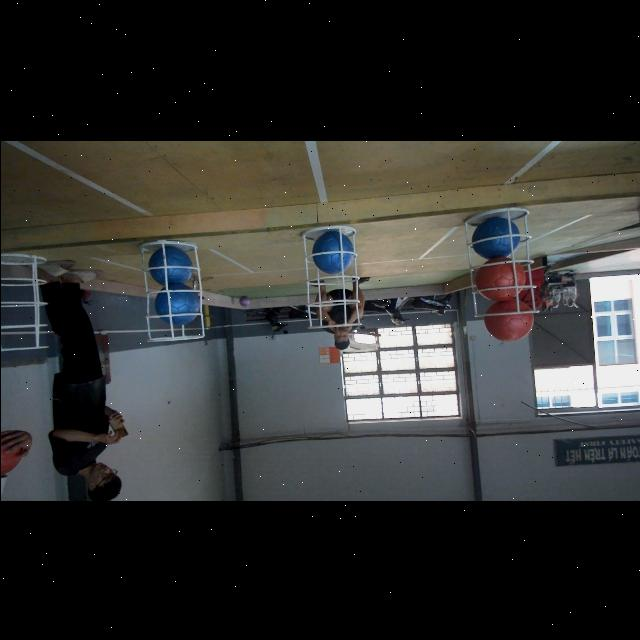B: (470, 216, 520, 258), (311, 230, 353, 274), (153, 284, 199, 324), (148, 246, 192, 284)
R: (474, 256, 526, 300), (482, 299, 534, 341)
